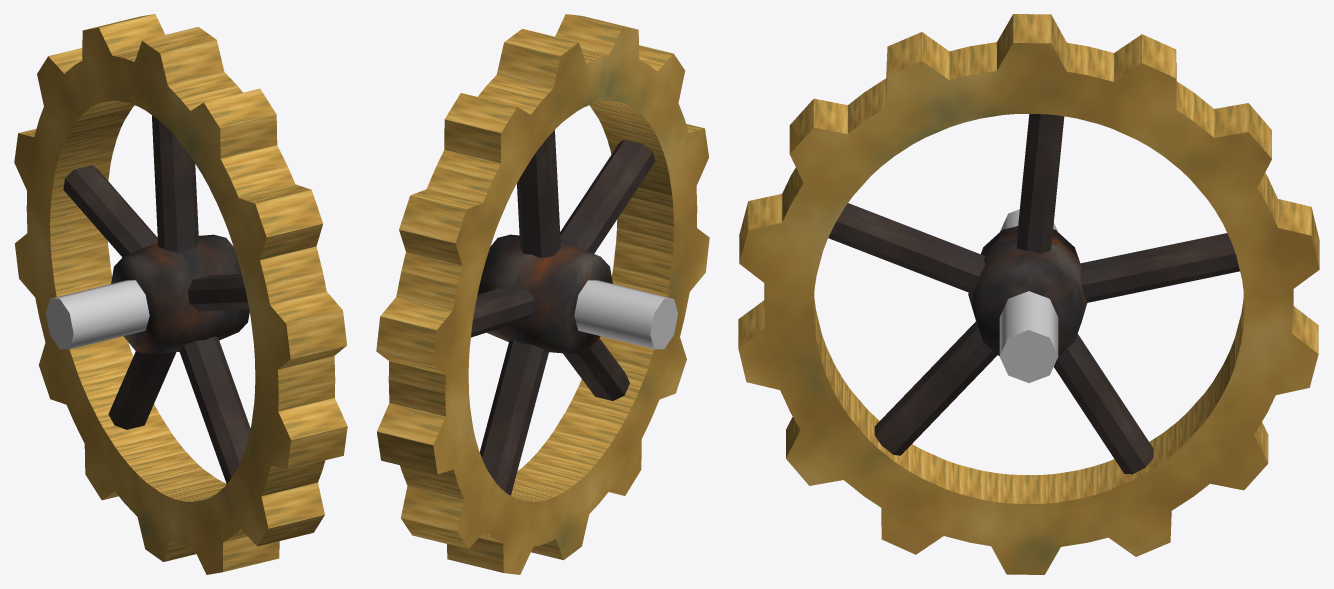
File: sp_lift_cabgear.glb
The picture shows the model from 3 angles, left to right: view 1: azimuth 30°, elevation 25°; view 2: azimuth 150°, elevation 25°; view 3: azimuth 270°, elevation 25°; orthographic projection. The views are drawn at different scales.
Parts seen in each view (by area): view 1: spire; view 2: spire; view 3: spire.
Part boxes in pixels (x1,y1,x2,y2): spire: (14, 14, 347, 574); spire: (376, 14, 709, 574); spire: (738, 14, 1319, 574).
Size of the model in its own units: 0.3 by 0.5991 by 0.5934.
3 materials, 2 textured.
